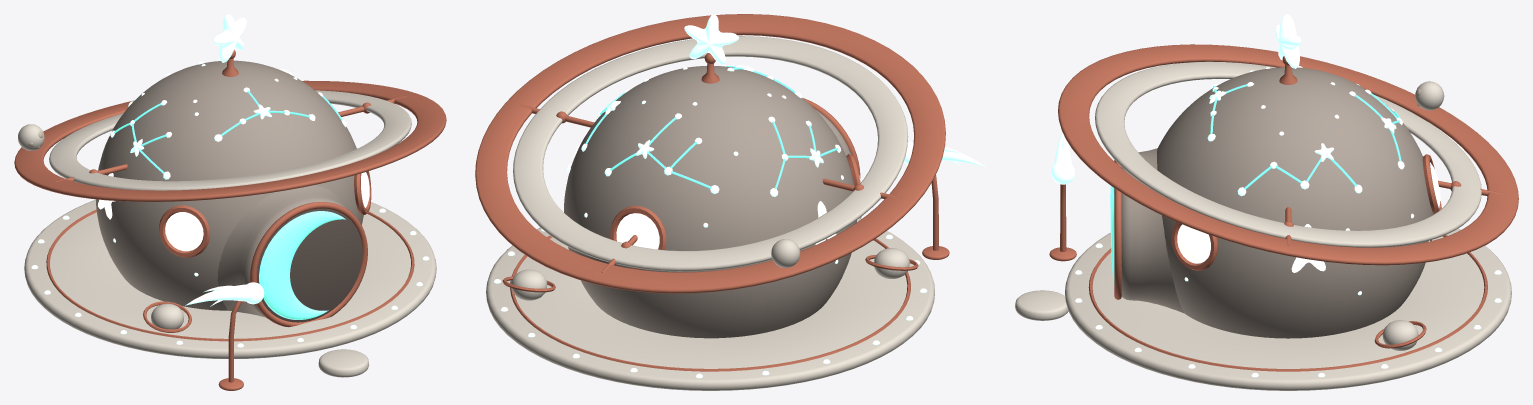
Rendered from house_07_0706.fbx.
3 views of the same model, side by side, from view 1: azimuth 30°, elevation 25°; view 2: azimuth 150°, elevation 25°; view 3: azimuth 270°, elevation 25° (orthographic). The views are drawn at different scales.
Visible parts, largest first — view 1: House07_PlanetDome, House07_RingDeck_Engawa, House07_PlanetRing_Outer, House07_PlanetRing_Inner, House07_MoonDisc, House07_EntrancePod, House07_CrescentDoor, House07_MoonDiscRim, House07_DeckGoldInlay, House07_RoundWindows, House07_WindowRims, House07_MoonStep (+10 smaller); view 2: House07_PlanetDome, House07_RingDeck_Engawa, House07_PlanetRing_Outer, House07_PlanetRing_Inner, House07_DeckGoldInlay, House07_PlanetStools, House07_TopStar, House07_ConstellationLines, House07_RoundWindows, House07_WindowRims, House07_RingSupports, House07_ConstellationDots (+6 smaller); view 3: House07_PlanetDome, House07_RingDeck_Engawa, House07_PlanetRing_Outer, House07_PlanetRing_Inner, House07_EntrancePod, House07_DeckGoldInlay, House07_MoonStep, House07_RoundWindows, House07_WindowRims, House07_TopStar, House07_MoonDiscRim, House07_ConstellationLines (+6 smaller).
Part boxes in pixels (x1,y1,x2,y2): House07_PlanetDome: (96,60,363,310); House07_RingDeck_Engawa: (24,199,436,358); House07_PlanetRing_Outer: (14,80,446,201); House07_PlanetRing_Inner: (49,90,411,190); House07_MoonDisc: (257,208,362,322); House07_EntrancePod: (217,185,347,318); House07_CrescentDoor: (259,211,345,319); House07_MoonDiscRim: (250,202,367,327); House07_DeckGoldInlay: (46,209,414,341); House07_RoundWindows: (165,172,369,251); House07_WindowRims: (159,171,371,257); House07_MoonStep: (318,349,368,377); House07_PlanetDome: (564,66,856,338); House07_RingDeck_Engawa: (486,218,934,390); House07_PlanetRing_Outer: (475,14,945,293); House07_PlanetRing_Inner: (513,36,908,271); House07_DeckGoldInlay: (510,235,910,371); House07_PlanetStools: (511,248,909,300); House07_TopStar: (684,14,738,64); House07_ConstellationLines: (585,66,837,188); House07_RoundWindows: (616,175,860,249); House07_WindowRims: (610,154,860,269); House07_RingSupports: (518,104,902,272); House07_ConstellationDots: (568,65,843,263); House07_PlanetDome: (1157,67,1433,338); House07_RingDeck_Engawa: (1065,228,1511,390); House07_PlanetRing_Outer: (1058,44,1518,265); House07_PlanetRing_Inner: (1095,61,1481,247); House07_EntrancePod: (1121,148,1184,313); House07_DeckGoldInlay: (1088,235,1487,371); House07_MoonStep: (1015,290,1068,320); House07_RoundWindows: (1177,162,1440,263); House07_WindowRims: (1171,154,1441,270); House07_TopStar: (1274,14,1301,68); House07_MoonDiscRim: (1114,160,1121,299); House07_ConstellationLines: (1210,84,1401,189).
Size of the model in its own units: 5.48 by 3.79 by 5.86.
